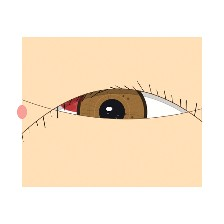hemorrhage_spot: (50, 75, 109, 123)
